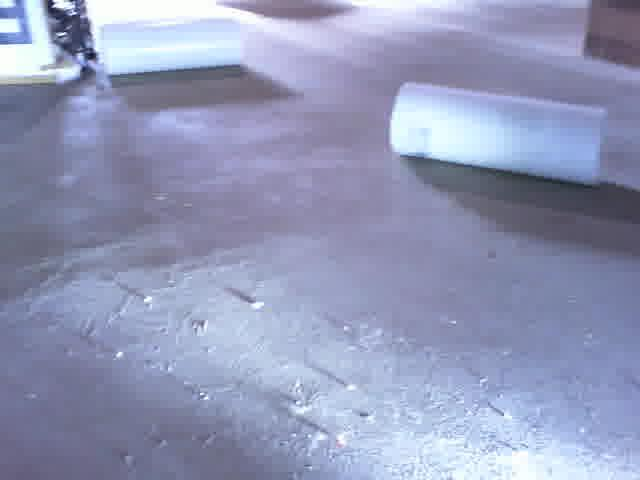coral: (389, 84, 606, 185), (100, 17, 242, 75)
